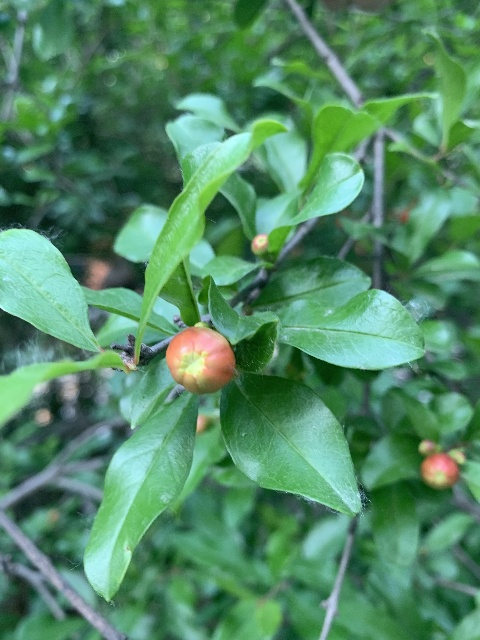bud: (166, 326, 235, 394), (419, 453, 459, 489)
